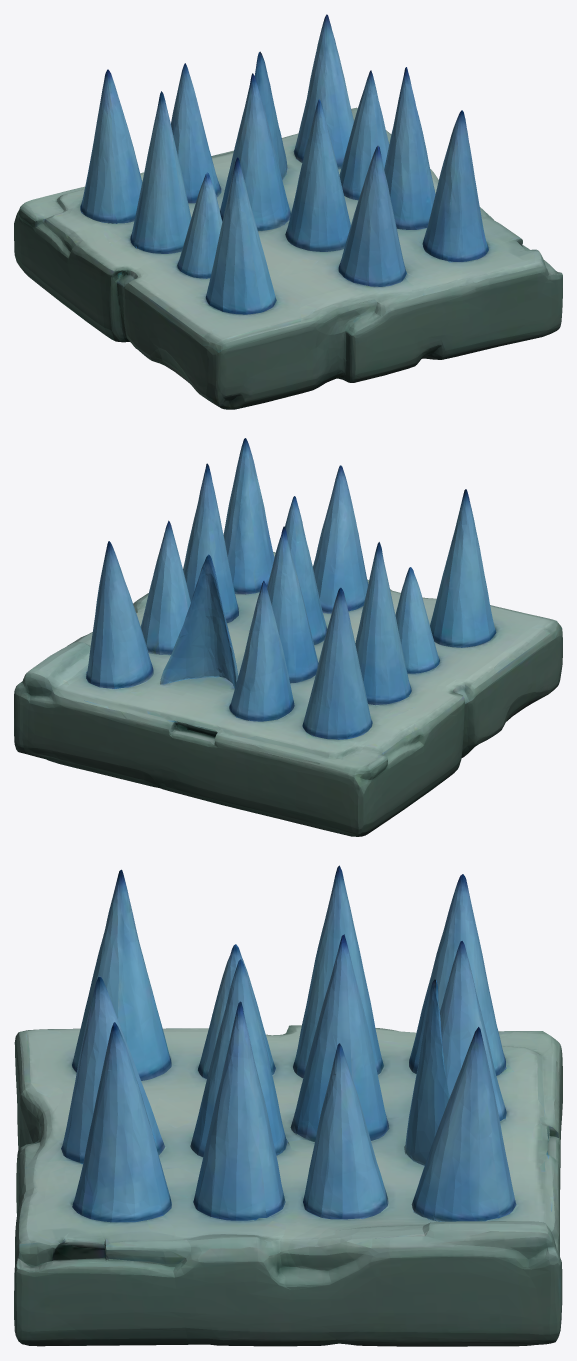
The model's file is water_spikes.glb.
3 renders of one model, top to bottom at view 1: azimuth 30°, elevation 25°; view 2: azimuth 150°, elevation 25°; view 3: azimuth 270°, elevation 25°, orthographic. The views are drawn at different scales.
Visible parts, largest first — view 1: world.001; view 2: world.001; view 3: world.001.
Boxes of the visible parts, x1,y1,x2,y2 form: world.001: (14, 14, 562, 409); world.001: (14, 438, 562, 836); world.001: (14, 865, 562, 1346).
Bounding box in the file's own units: 0.9923 × 0.6041 × 0.9958.
1 material, 1 textured.
